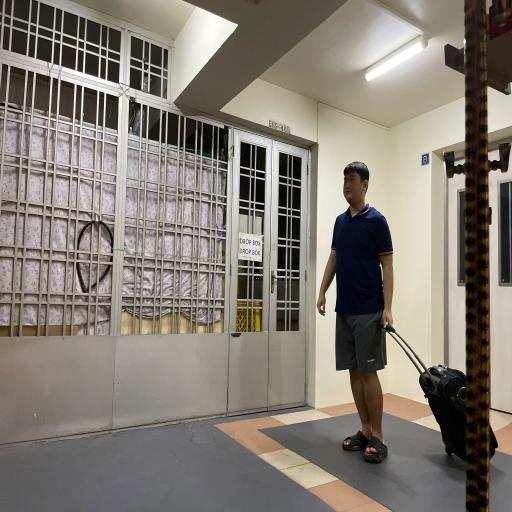person_left: (306, 138, 498, 482)
